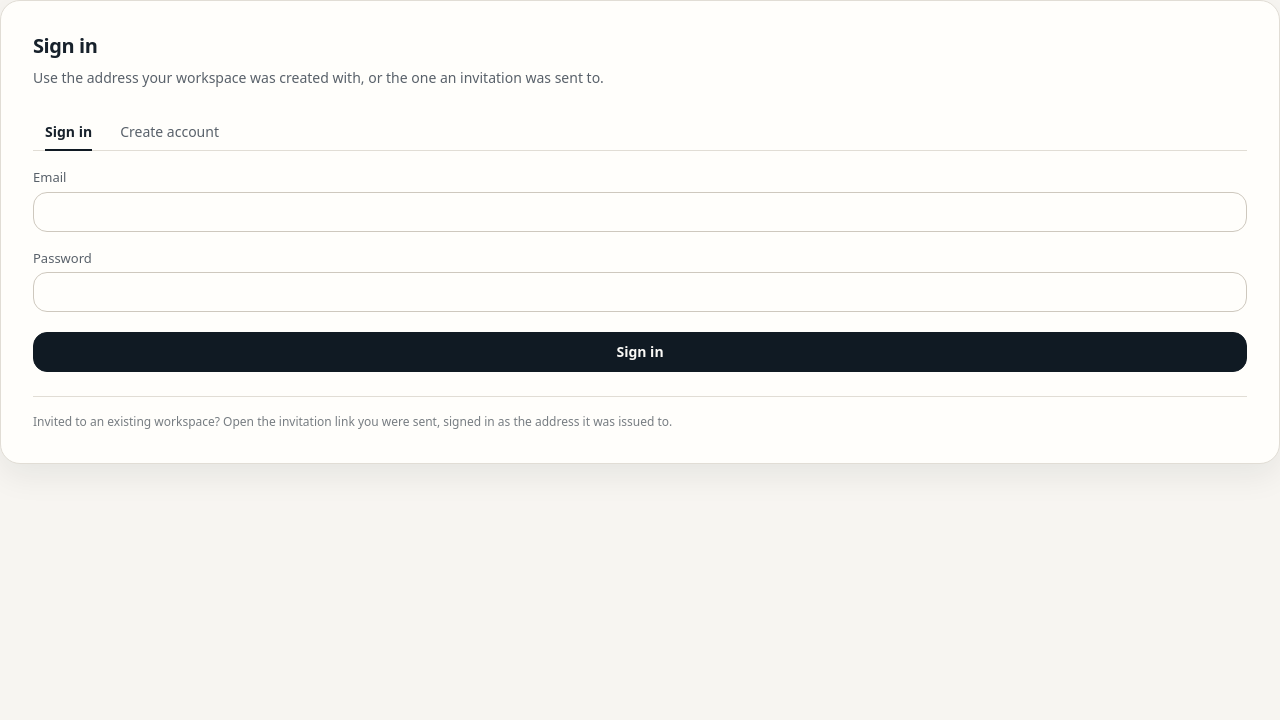
Test: the registration form › asks for the password twice
Click the tab "Create account" at (170, 132), box [108, 113, 231, 150]
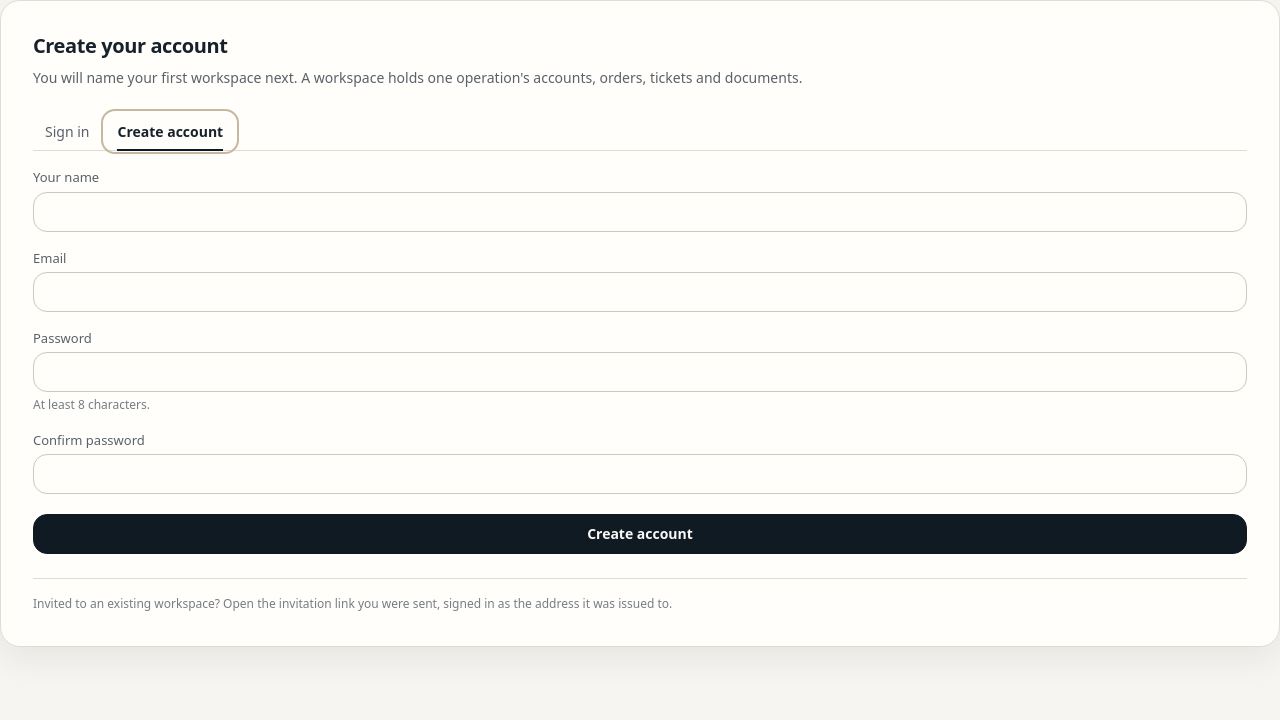
Check: the password field labelled "Password" is shown, box [33, 352, 1247, 392]
Check: the password field labelled "Confirm password" is shown, box [33, 454, 1247, 494]
